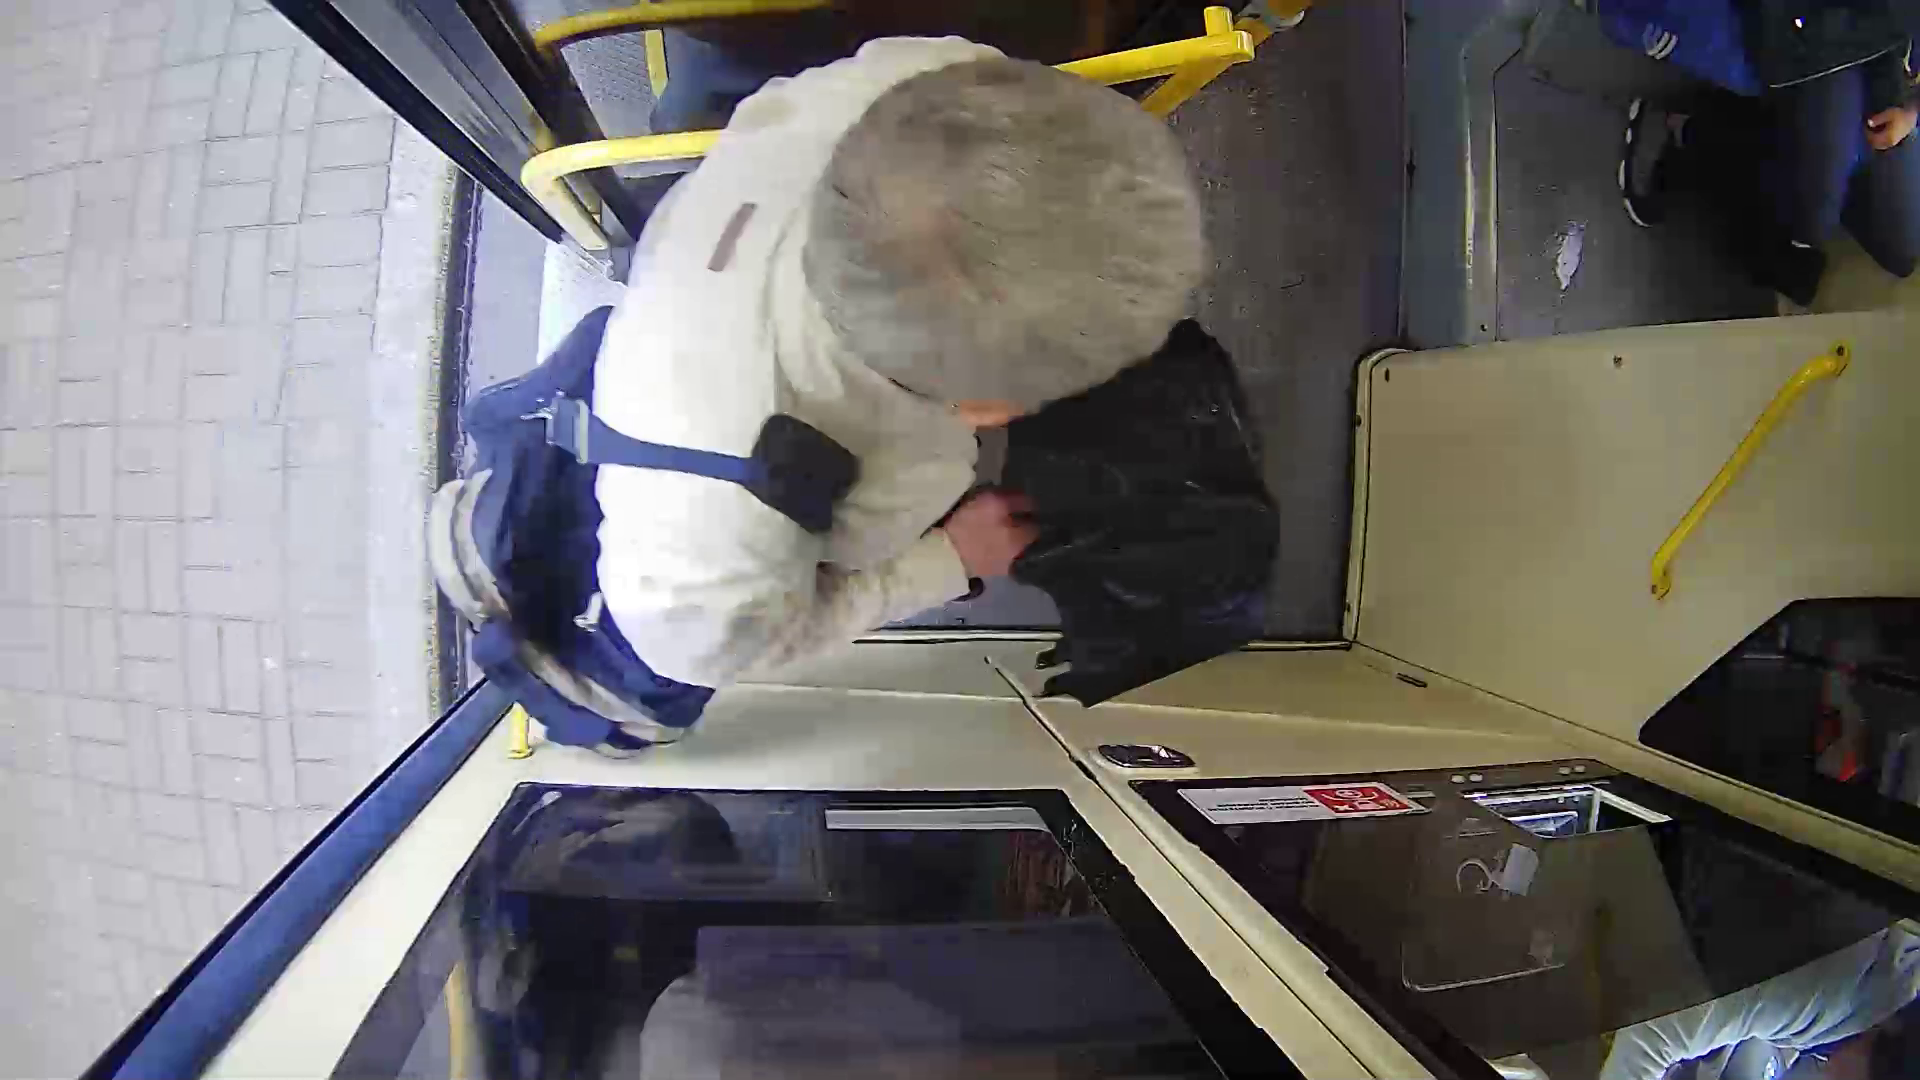person: (448, 54, 1302, 723)
